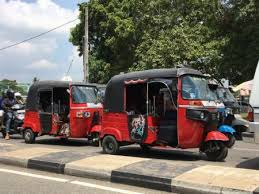tuk tuk: (99, 65, 229, 159), (20, 78, 99, 145)
